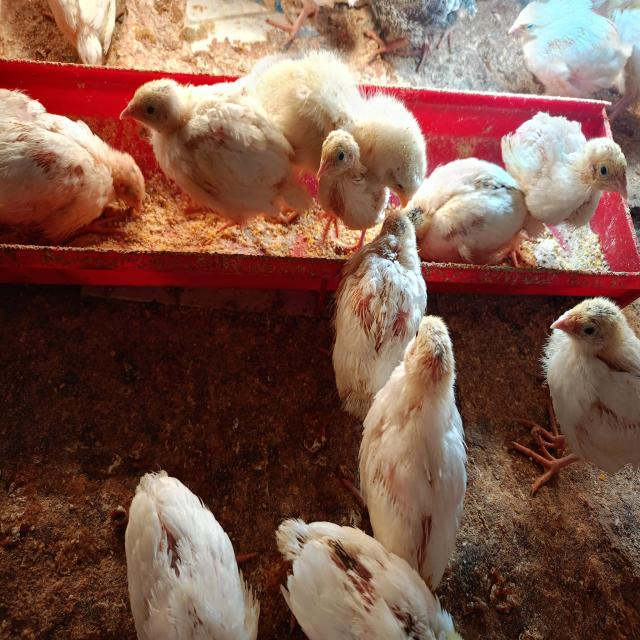Unhealthy: (345, 306, 496, 610), (114, 61, 302, 236), (516, 283, 640, 498)
